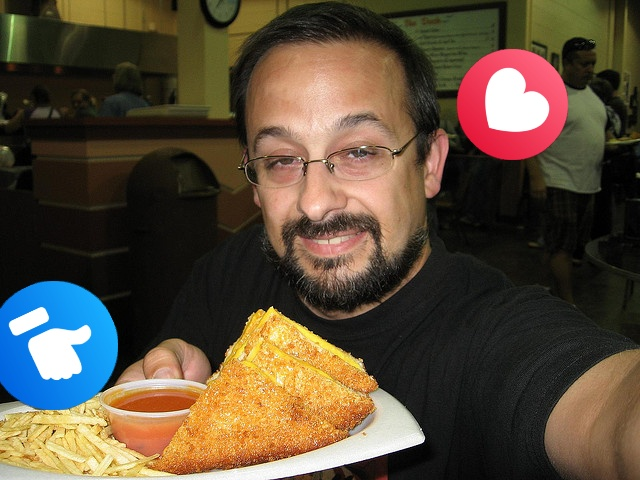like: (0, 281, 118, 410)
love: (457, 49, 568, 160)
